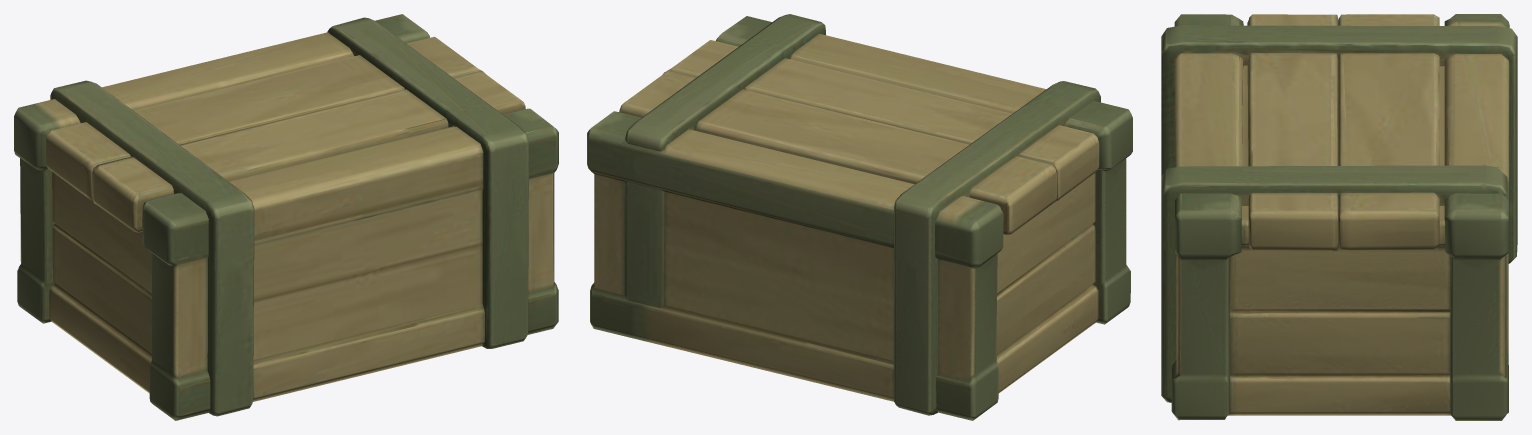
Rendered from crate.glb.
3 views of the same model, side by side, from view 1: azimuth 30°, elevation 25°; view 2: azimuth 150°, elevation 25°; view 3: azimuth 270°, elevation 25° (orthographic). The views are drawn at different scales.
Size of the model in its own units: 0.9546 by 0.4878 by 0.709.
Materials: 1 (1 with a texture image).
